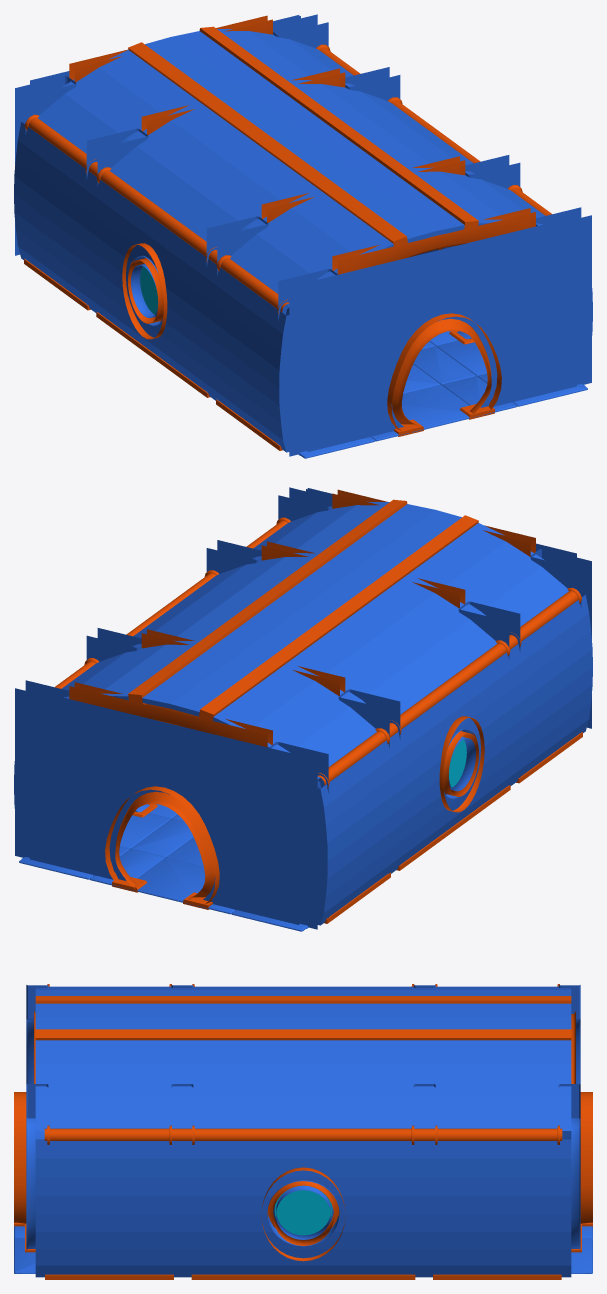
Rendered from SpaceShip_Blocking_Room2.fbx.
The picture shows the model from 3 angles, top to bottom: view 1: azimuth 30°, elevation 25°; view 2: azimuth 150°, elevation 25°; view 3: azimuth 270°, elevation 25°; orthographic projection.
Parts seen in each view (by area): view 1: Wall.006, DoorWall, Pillar.001, VerticalBeam, Tile_Big.009, Pillar, Pipe.014, HorizontalBeam.003, DoorBorder, Cube, Window.004, Pipe.012 (+5 smaller); view 2: Wall.006, DoorWall, Pillar.001, VerticalBeam, Tile_Big.009, Pillar, Pipe.014, DoorBorder, HorizontalBeam.002, Cube, Window.004, Pipe.012 (+5 smaller); view 3: Wall.006, VerticalBeam, Pipe.012, Pillar.001, DoorBorder, Cube, Window_Glass, Window, Tile_Big.009, Window.003.
Boxes of the visible parts, x1,y1,x2,y2 form: Wall.006: [14, 29, 592, 455]; DoorWall: [30, 15, 576, 451]; Pillar.001: [15, 14, 591, 456]; VerticalBeam: [128, 26, 478, 246]; Tile_Big.009: [299, 331, 587, 458]; Pillar: [86, 67, 520, 400]; Pipe.014: [24, 114, 289, 314]; HorizontalBeam.003: [332, 208, 535, 274]; DoorBorder: [387, 313, 501, 431]; Cube: [24, 259, 494, 450]; Window.004: [122, 243, 167, 339]; Pipe.012: [316, 44, 552, 215]; Wall.006: [14, 501, 592, 928]; DoorWall: [30, 488, 576, 924]; Pillar.001: [15, 487, 591, 929]; VerticalBeam: [128, 499, 478, 720]; Tile_Big.009: [19, 804, 307, 931]; Pillar: [86, 540, 520, 873]; Pipe.014: [317, 587, 581, 788]; DoorBorder: [105, 786, 219, 903]; HorizontalBeam.002: [69, 682, 272, 747]; Cube: [112, 732, 582, 923]; Window.004: [439, 716, 484, 812]; Pipe.012: [55, 517, 290, 688]; Wall.006: [22, 986, 584, 1277]; VerticalBeam: [35, 996, 571, 1040]; Pipe.012: [44, 1125, 562, 1144]; Pillar.001: [26, 985, 580, 1249]; DoorBorder: [14, 1092, 592, 1223]; Cube: [14, 1222, 592, 1279]; Window_Glass: [274, 1188, 332, 1235]; Window: [261, 1167, 345, 1261]; Tile_Big.009: [14, 1226, 592, 1273]; Window.003: [267, 1180, 339, 1246].
Size of the model in its own units: 1808 by 1074 by 2801.
